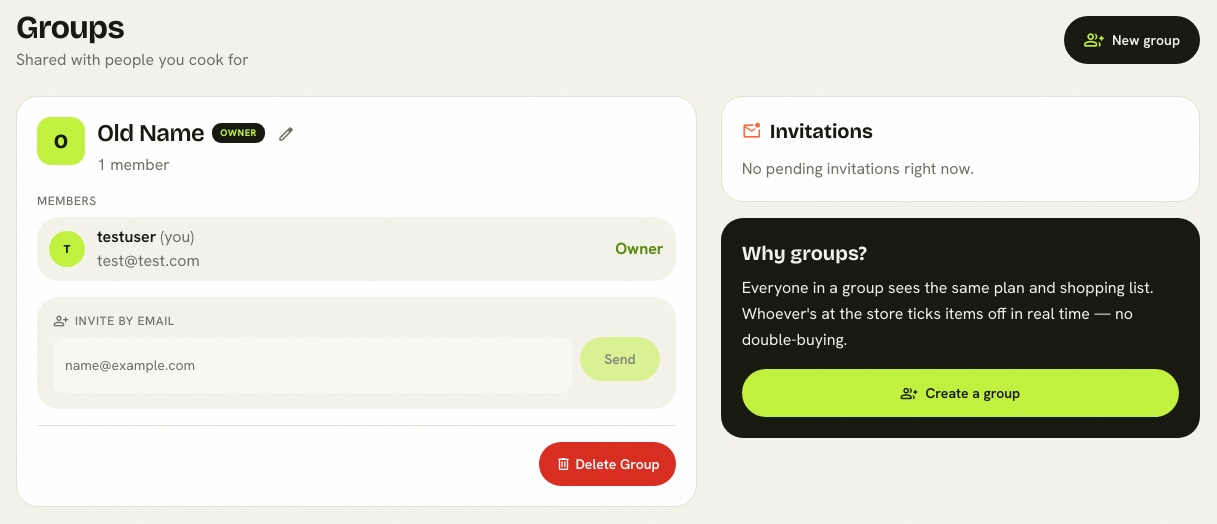
Test case: Groups Page › rename group › should show input with current name when edit is clicked
Expected: the heading "Old Name" is shown, [97,117,204,149]
Step 1. Click the button named "Rename group" → (286, 133), box [269,113,303,153]
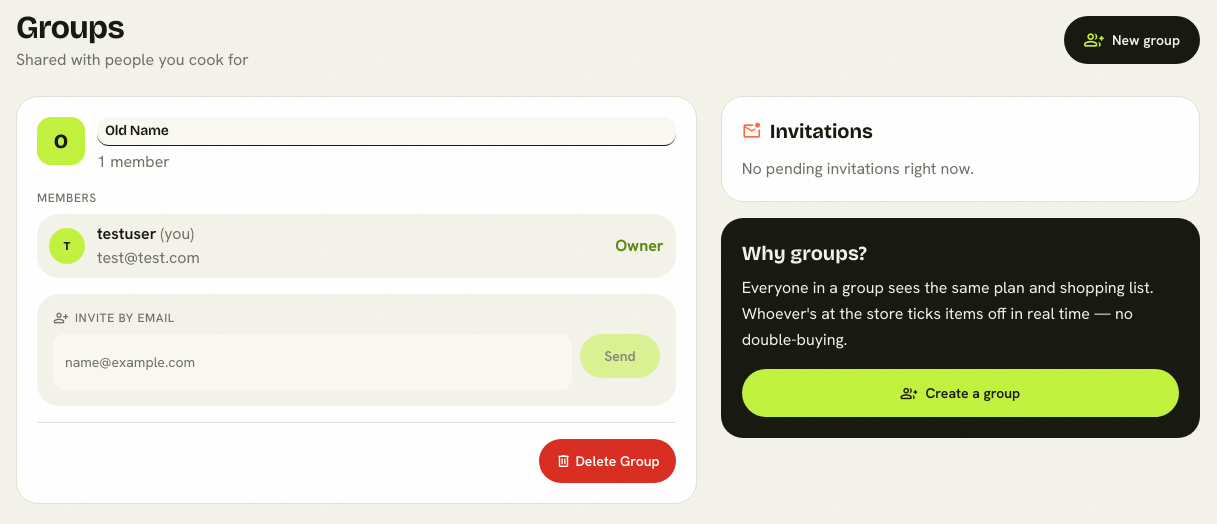
Now the field showing "Old Name" is shown, box [97,117,676,146]
